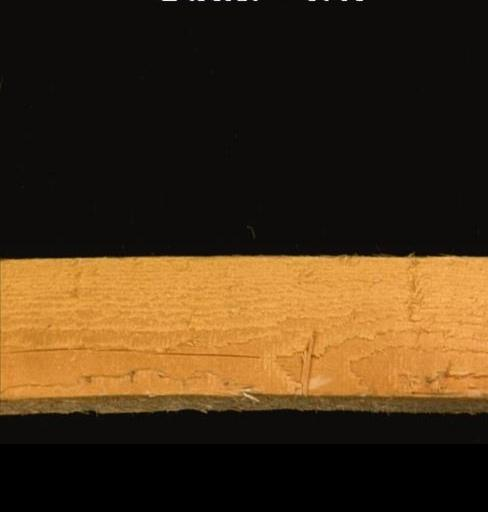split: (0, 394, 486, 414)
